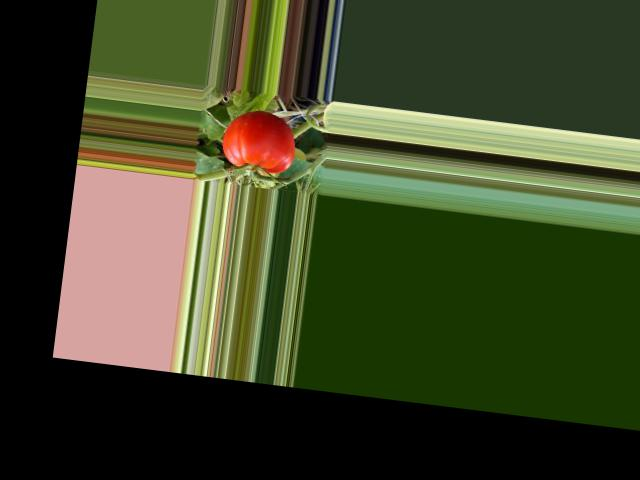tomato: (220, 106, 300, 175)
